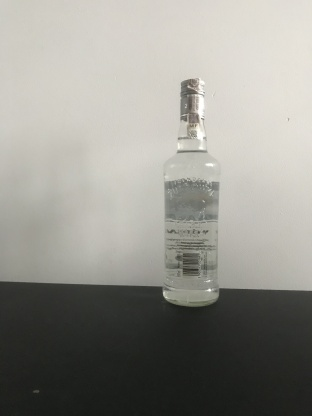nakretka: (178, 76, 207, 121)
